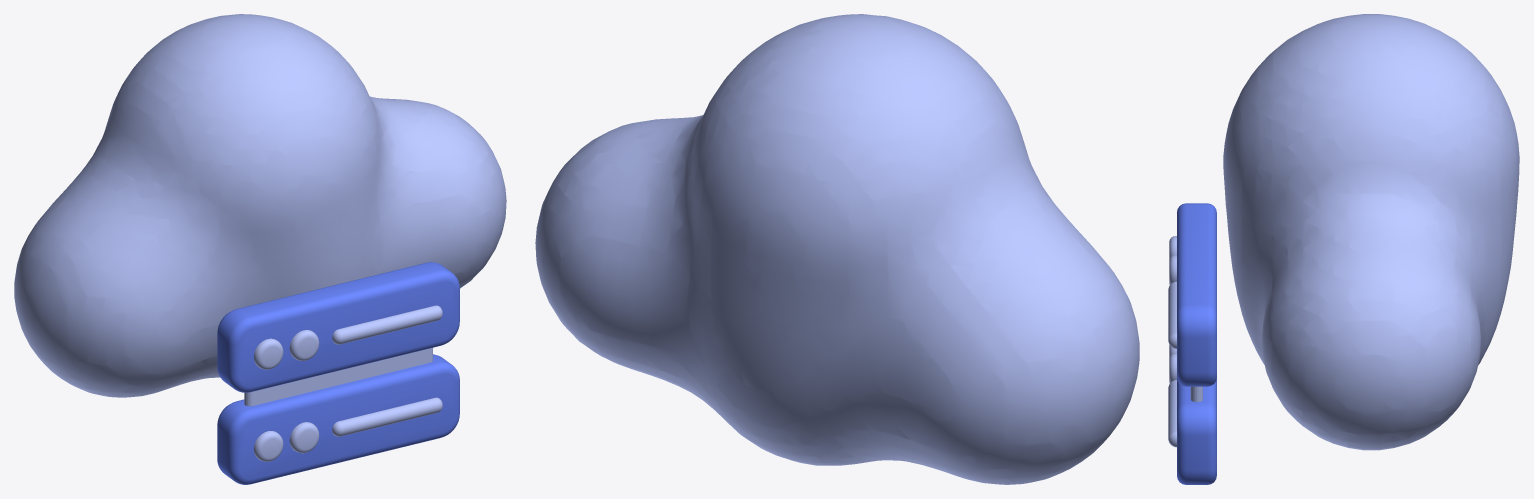
Rendered from Cloud.glb.
The picture shows the model from 3 angles, left to right: view 1: azimuth 30°, elevation 25°; view 2: azimuth 150°, elevation 25°; view 3: azimuth 270°, elevation 25°; orthographic projection. The views are drawn at different scales.
Parts seen in each view (by area): view 1: Mball.004, Cube, Cube.001, Cube.002, Cylinder.002, Cylinder.005, Cylinder.004, Cylinder.001; view 2: Mball.004; view 3: Mball.004, Cube, Cube.001, Cylinder.002, Cylinder.005.
Boxes of the visible parts, x1,y1,x2,y2 form: Mball.004: (14,14,506,397); Cube: (217,262,459,392); Cube.001: (217,354,459,484); Cube.002: (244,348,432,406); Cylinder.002: (332,305,442,344); Cylinder.005: (332,397,442,436); Cylinder.004: (253,422,319,461); Cylinder.001: (253,330,319,369); Mball.004: (535,14,1139,484); Mball.004: (1223,14,1519,450); Cube: (1177,203,1216,386); Cube.001: (1177,378,1216,484); Cylinder.002: (1168,281,1176,348); Cylinder.005: (1168,380,1176,447).
Size of the model in its own units: 5.75 by 4.42 by 3.53.
